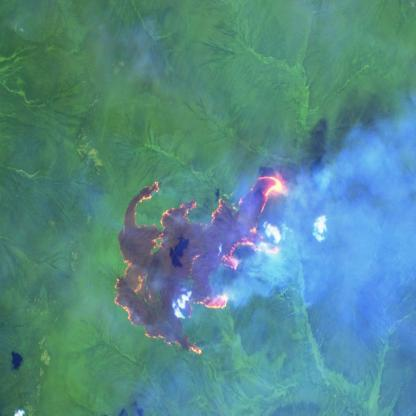fire: (110, 162, 299, 370)
